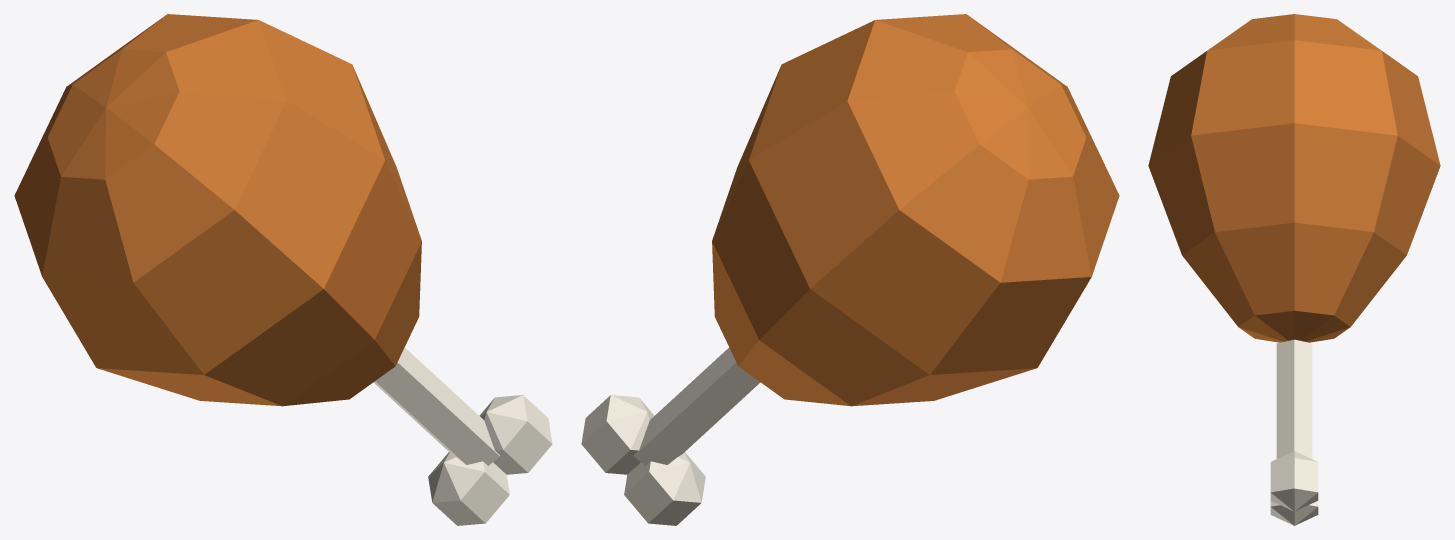
The model's file is Food_ChickenLeg.obj.
3 renders of one model, left to right at view 1: azimuth 30°, elevation 25°; view 2: azimuth 150°, elevation 25°; view 3: azimuth 270°, elevation 25°, orthographic. The views are drawn at different scales.
Size of the model in its own units: 2.29 by 2.4 by 1.56.
